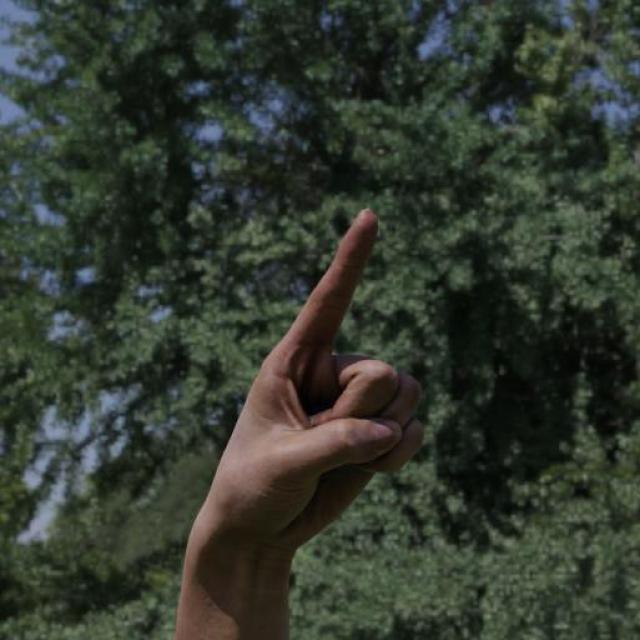Z: (183, 198, 446, 567)
